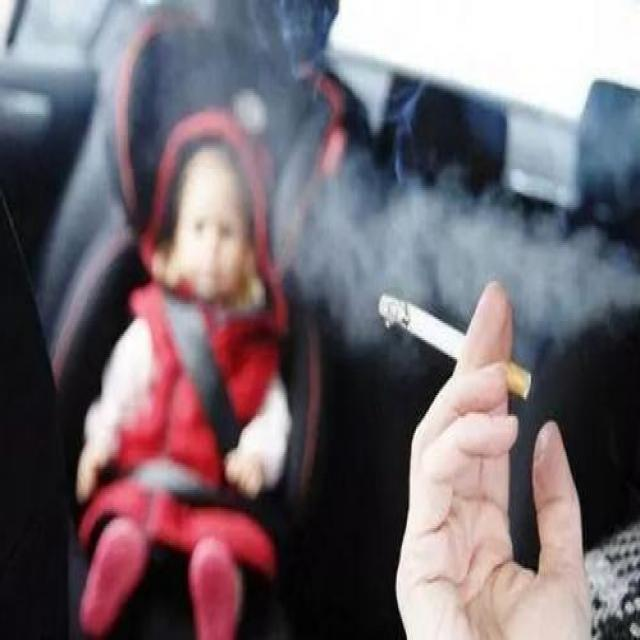smoking: (370, 296, 534, 394)
